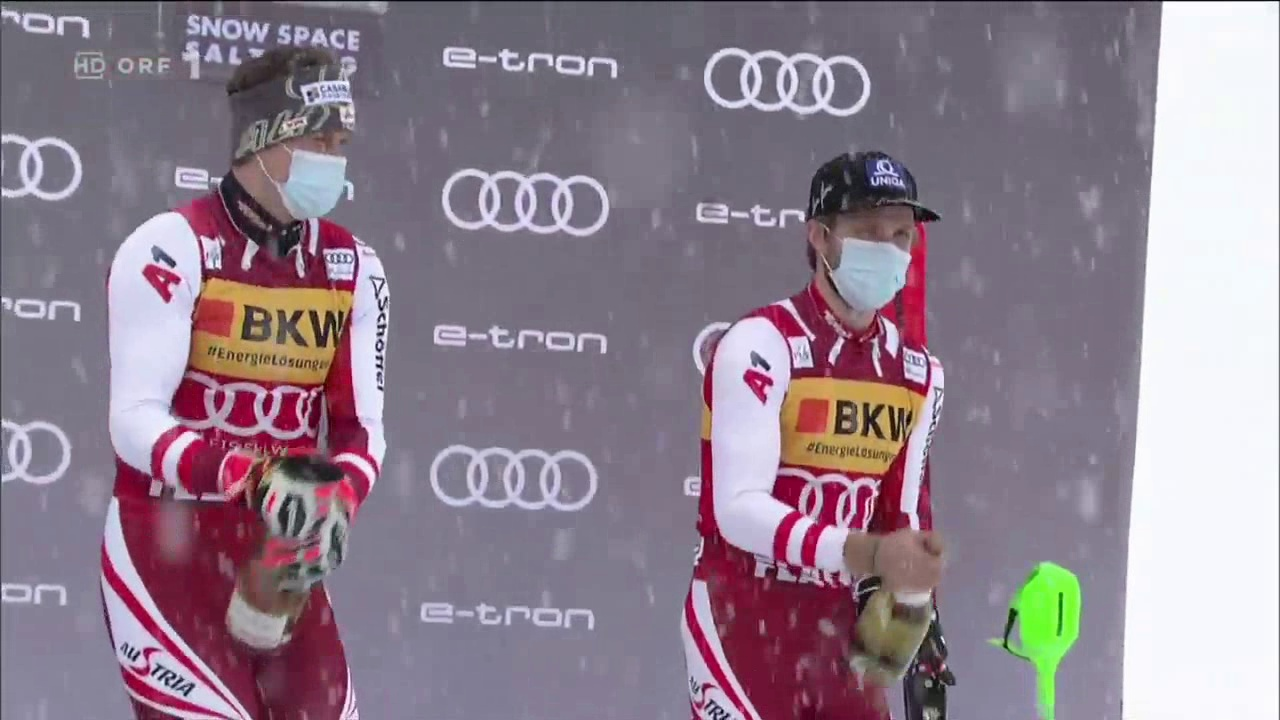a1: (141, 252, 187, 307), (743, 354, 780, 408)
audi: (705, 51, 868, 125), (442, 172, 607, 241), (431, 448, 594, 517), (176, 380, 320, 443), (771, 468, 886, 529), (1, 407, 74, 497), (6, 123, 85, 205)
etron: (440, 48, 624, 82), (418, 602, 601, 634), (432, 324, 610, 356), (1, 280, 85, 326), (701, 200, 815, 233), (1, 576, 70, 609)
